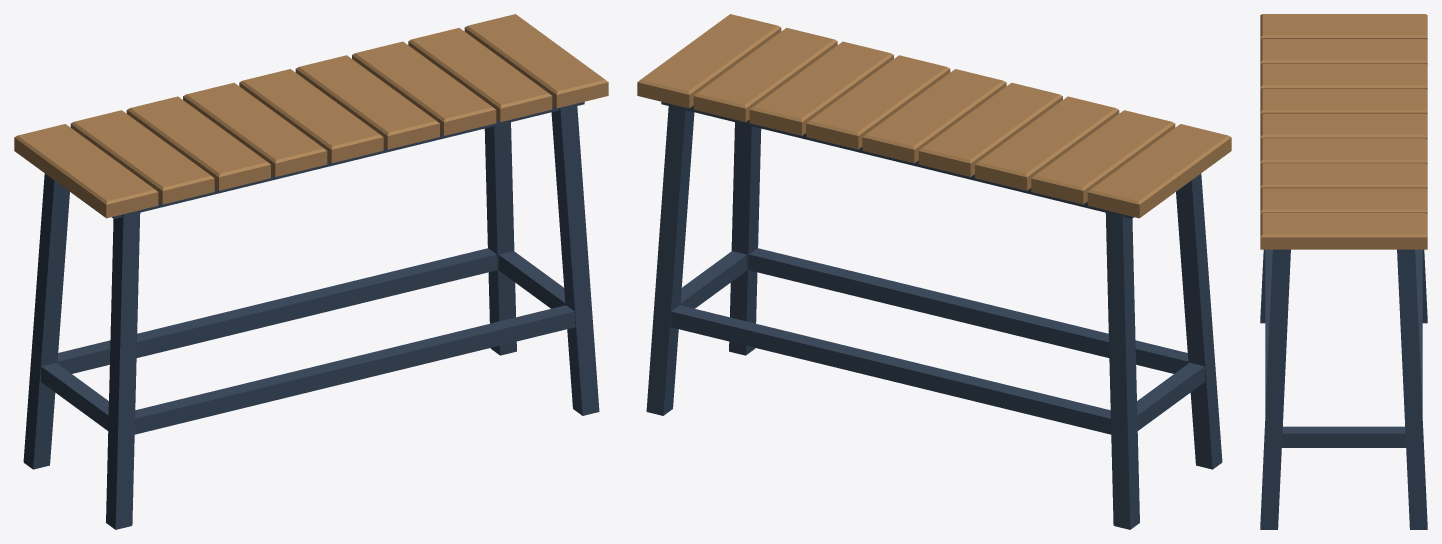
Rendered from FN_Bench_Bar.obj.
3 views of the same model, side by side, from view 1: azimuth 30°, elevation 25°; view 2: azimuth 150°, elevation 25°; view 3: azimuth 270°, elevation 25° (orthographic). The views are drawn at different scales.
Parts seen in each view (by area): view 1: FN_Bench_Bar; view 2: FN_Bench_Bar; view 3: FN_Bench_Bar.
Boxes of the visible parts, x1,y1,x2,y2 form: FN_Bench_Bar: [14, 14, 608, 529]; FN_Bench_Bar: [637, 14, 1231, 529]; FN_Bench_Bar: [1260, 14, 1427, 529].
Size of the model in its own units: 1.2 by 0.75 by 0.38.
1 material, 1 textured.
